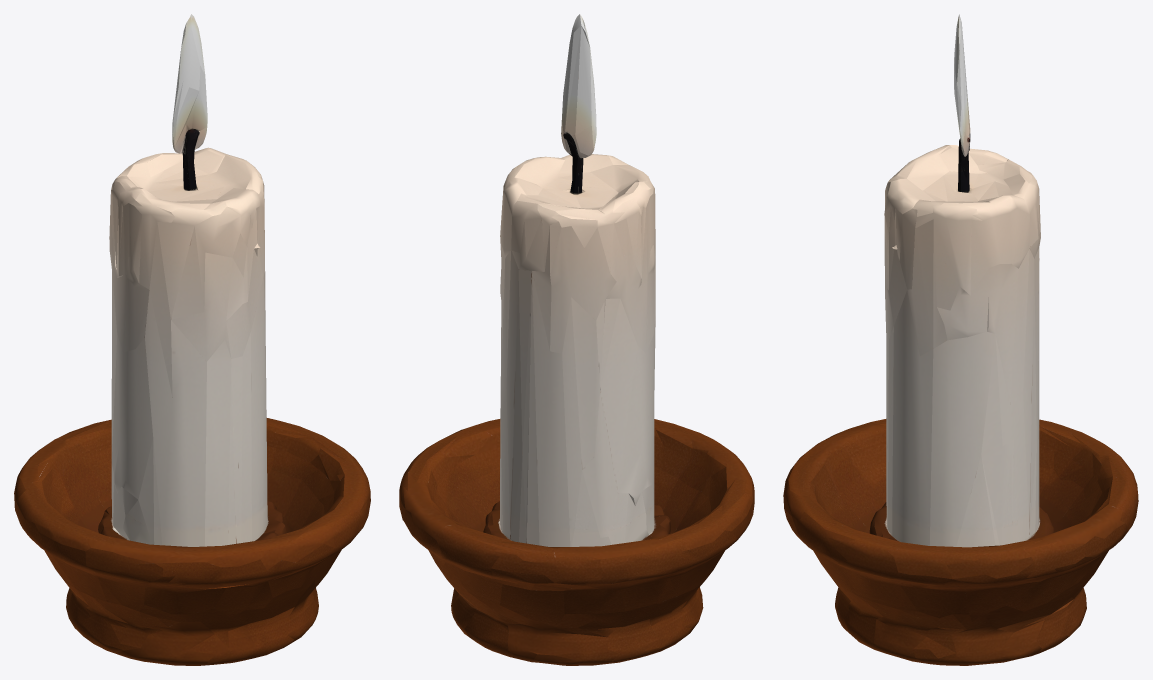
File: candle.glb
The picture shows the model from 3 angles, left to right: view 1: azimuth 30°, elevation 25°; view 2: azimuth 150°, elevation 25°; view 3: azimuth 270°, elevation 25°; orthographic projection.
Visible parts, largest first — view 1: output_unwrapped; view 2: output_unwrapped; view 3: output_unwrapped.
Part boxes in pixels (x1,y1,x2,y2): output_unwrapped: [14, 14, 370, 665]; output_unwrapped: [399, 14, 754, 665]; output_unwrapped: [783, 14, 1138, 665].
Size of the model in its own units: 1.01 by 1.9 by 1.01.
Materials: 1 (1 with a texture image).
